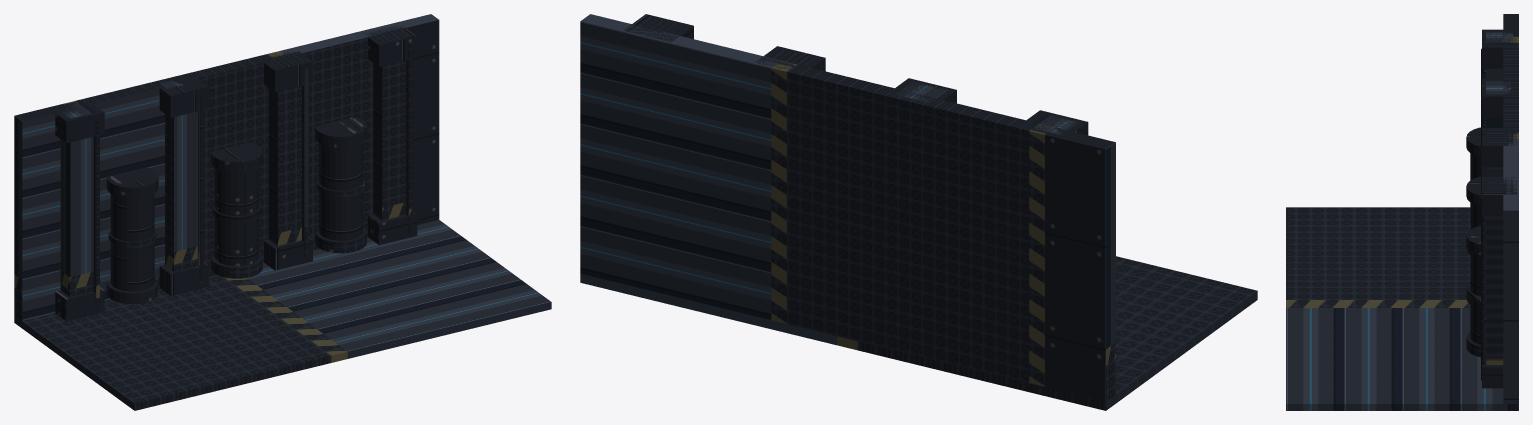
File: Lab_BlockOut.fbx
3 views of the same model, side by side, from view 1: azimuth 30°, elevation 25°; view 2: azimuth 150°, elevation 25°; view 3: azimuth 270°, elevation 25° (orthographic). The views are drawn at different scales.
Parts seen in each view (by area): view 1: Wall_Structures, Floor; view 2: Wall_Structures, Floor; view 3: Floor, Wall_Structures.
Boxes of the visible parts, x1,y1,x2,y2 form: Wall_Structures: (14, 14, 439, 321); Floor: (14, 220, 551, 410); Wall_Structures: (580, 14, 1115, 401); Floor: (580, 256, 1257, 410); Floor: (1286, 207, 1518, 410); Wall_Structures: (1466, 14, 1518, 403).
Bounding box in the file's own units: 12 × 5.7 × 6.
1 material, 1 textured.
